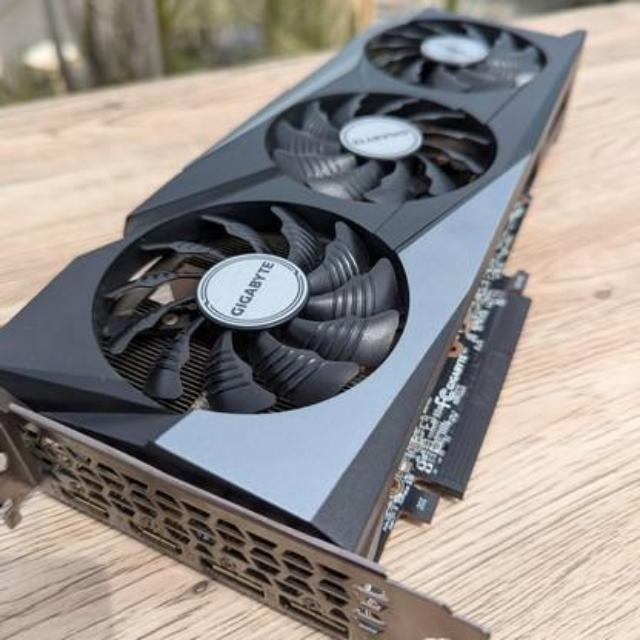GPU: (0, 0, 589, 578)
